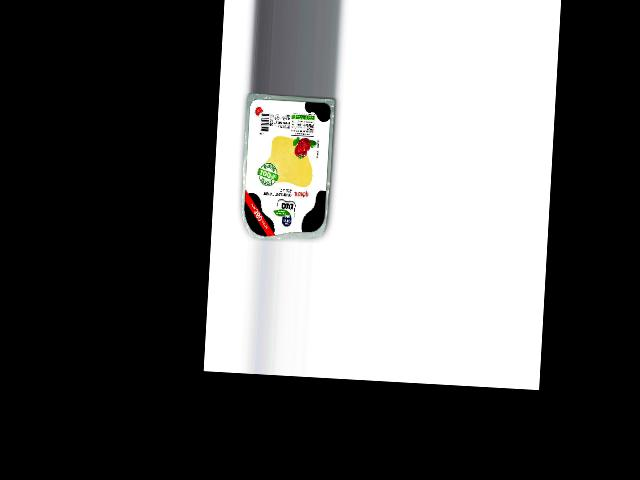cheese: (238, 93, 335, 244)
